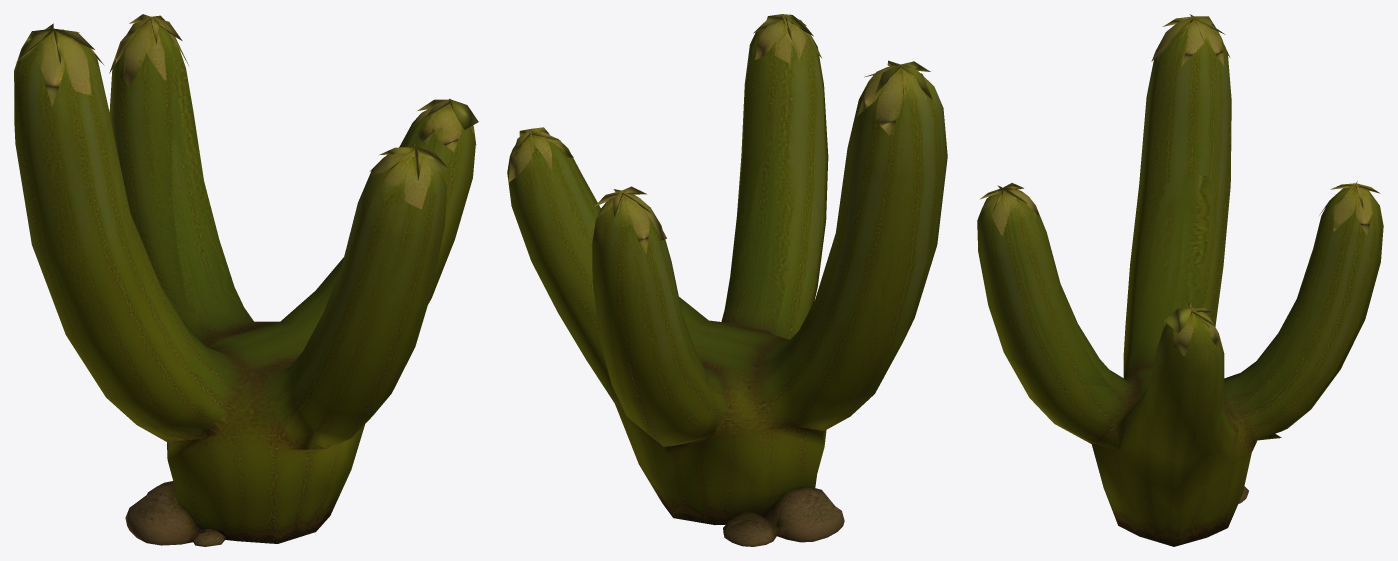
Rendered from cactus_01.glb.
3 renders of one model, left to right at view 1: azimuth 30°, elevation 25°; view 2: azimuth 150°, elevation 25°; view 3: azimuth 270°, elevation 25°, orthographic. The views are drawn at different scales.
Parts seen in each view (by area): view 1: tripo_node_6ca44f10-feec-4a67-8f36-78204b8d8e19; view 2: tripo_node_6ca44f10-feec-4a67-8f36-78204b8d8e19; view 3: tripo_node_6ca44f10-feec-4a67-8f36-78204b8d8e19.
Part boxes in pixels (<box>): tripo_node_6ca44f10-feec-4a67-8f36-78204b8d8e19: <box>14,14,478,546</box>; tripo_node_6ca44f10-feec-4a67-8f36-78204b8d8e19: <box>507,14,947,546</box>; tripo_node_6ca44f10-feec-4a67-8f36-78204b8d8e19: <box>977,14,1383,546</box>.
Size of the model in its own units: 0.455 by 0.5 by 0.4354.
Materials: 1 (1 with a texture image).
